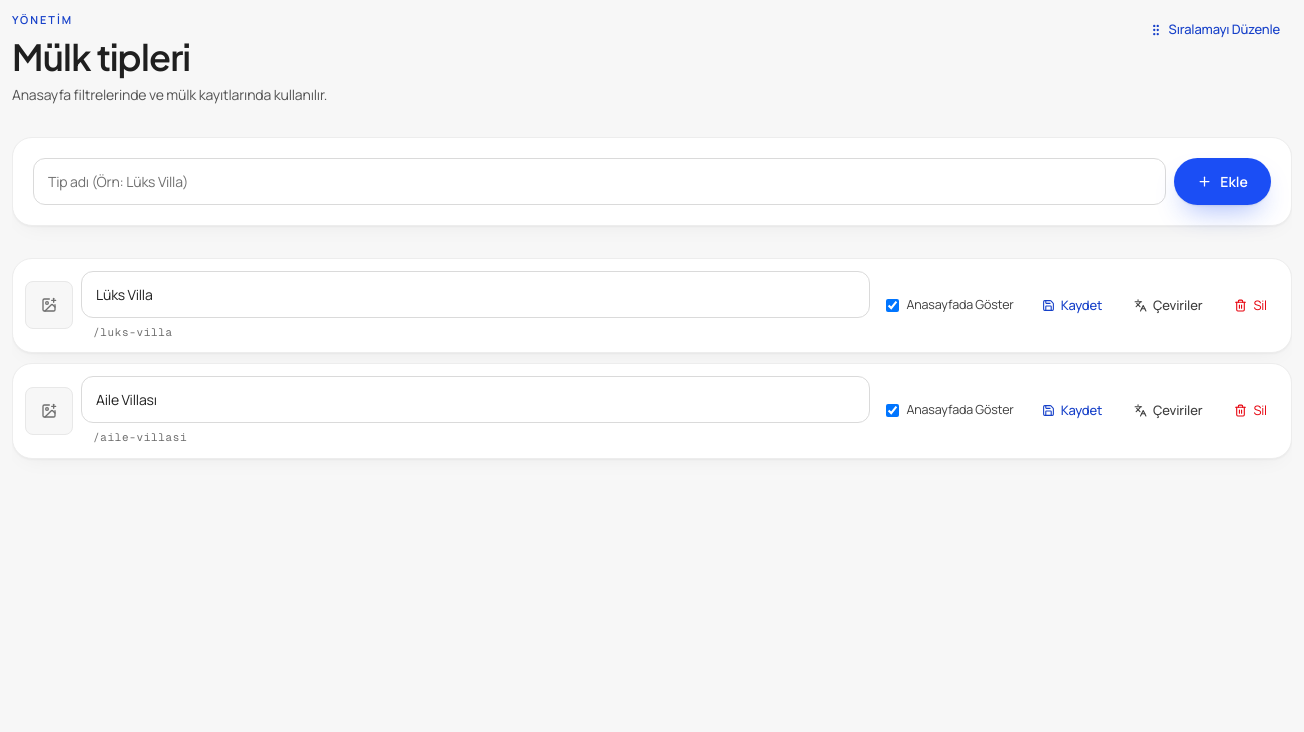
Test: TypesPage — Phase 10D Batch 3 — panel açma/kapama + tab mekaniği › 4) 'Çeviriler' butonuna tıklanınca panel açılır
This screenshot has width=1304, height=732.
Click the button with aria-label "çevirileri" at x=1168, y=305, box [1122,288,1214,323]
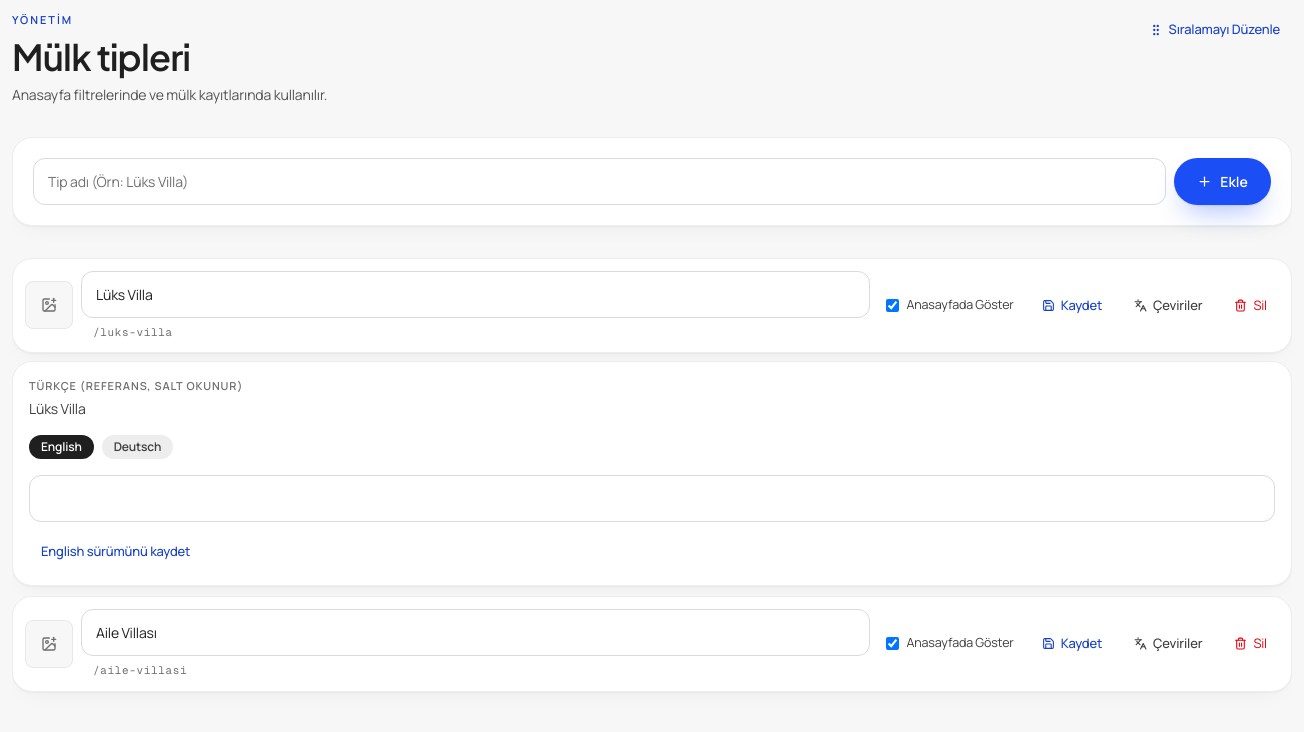
expect the text "Türkçe (referans, salt okunur)" is shown: met, box [29,378,243,393]
